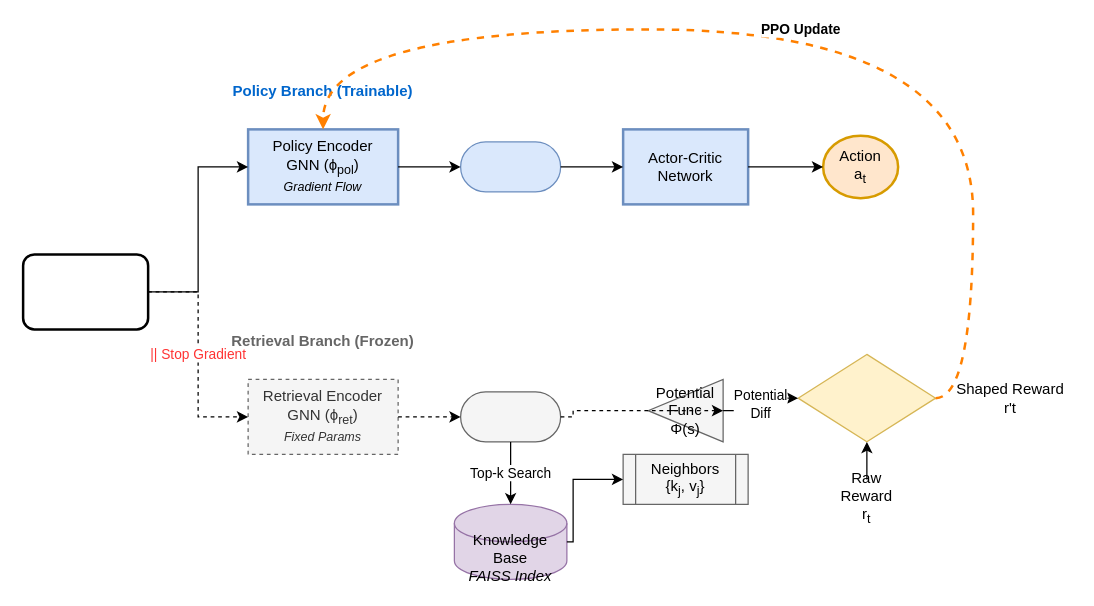
The diagram is 1094 pixels wide and 606 high, and some of its shapes have lost their labels. The shapes that lost their labels are listed below. From the top down, each one's centre as x and y in pixels, then its label:
At (510,166): "Embedding e pol".
At (85,291): "System State s t".
At (510,416): "Query Key q t".
At (866,397): "PBRS / Reward Shaping".
